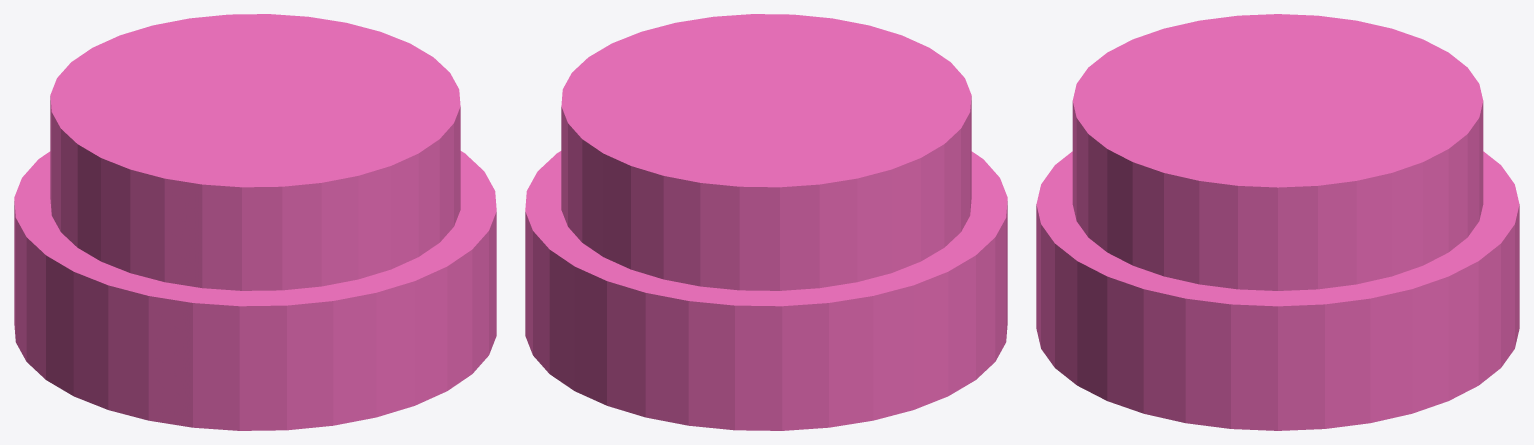
The model's file is sample.glb.
The picture shows the model from 3 angles, left to right: view 1: azimuth 30°, elevation 25°; view 2: azimuth 150°, elevation 25°; view 3: azimuth 270°, elevation 25°; orthographic projection.
Parts seen in each view (by area): view 1: Cylinder.001, Cylinder; view 2: Cylinder.001, Cylinder; view 3: Cylinder.001, Cylinder.
Part boxes in pixels (x1,y1,x2,y2): Cylinder.001: (50, 14, 460, 290); Cylinder: (14, 151, 496, 430); Cylinder.001: (561, 14, 971, 290); Cylinder: (525, 151, 1007, 430); Cylinder.001: (1072, 14, 1483, 290); Cylinder: (1036, 151, 1519, 430).
Size of the model in its own units: 1.8 by 0.9401 by 1.8.
